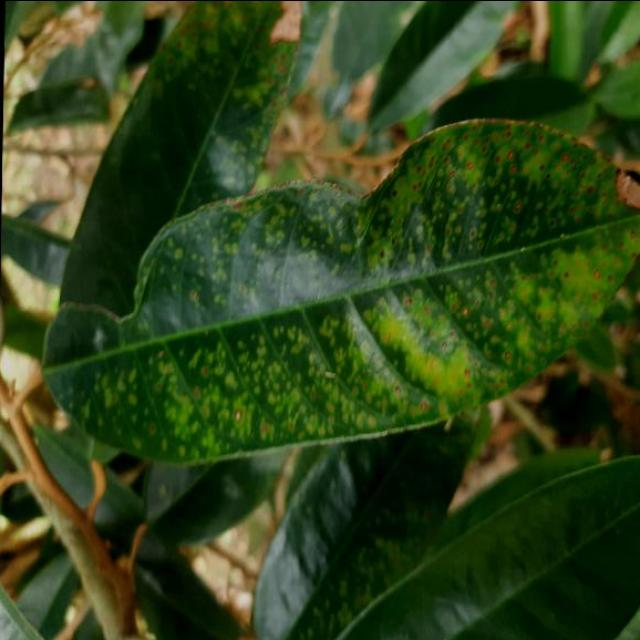Leaf Spot: (23, 100, 640, 476)
